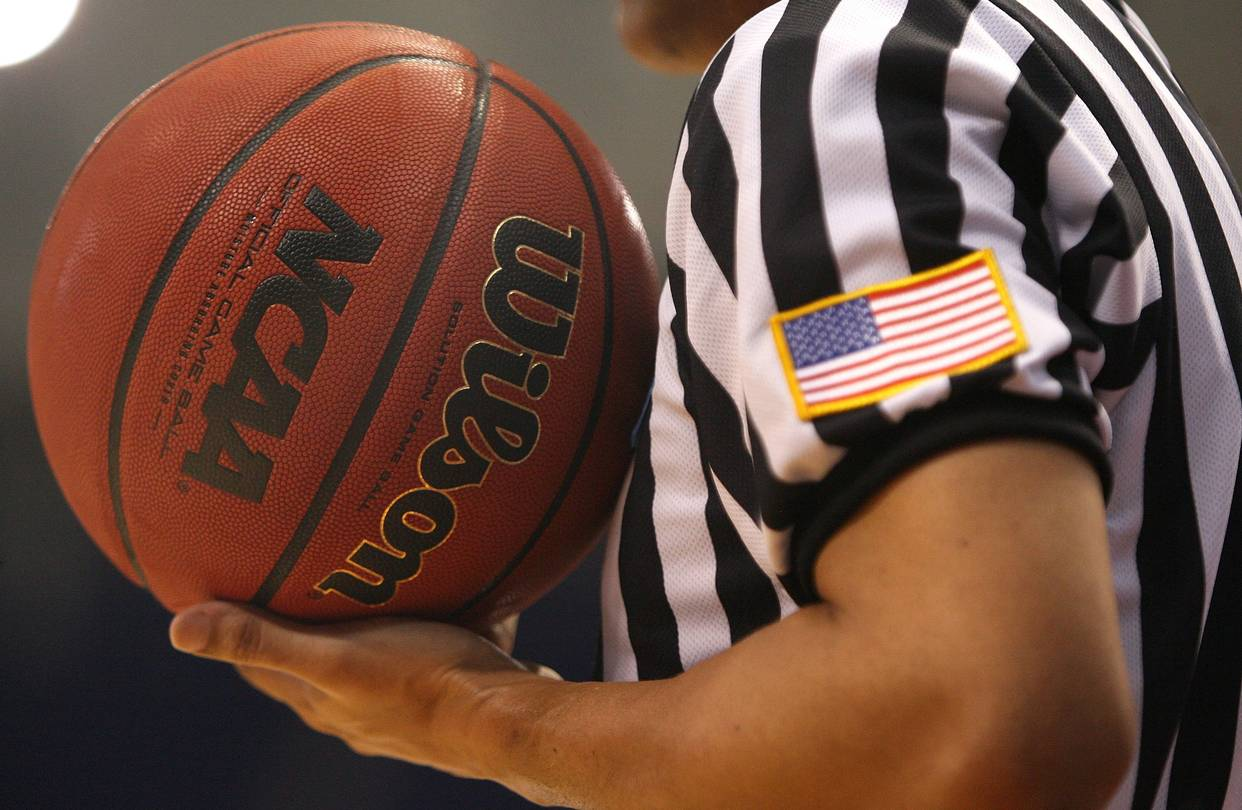basketball: (29, 18, 659, 643)
